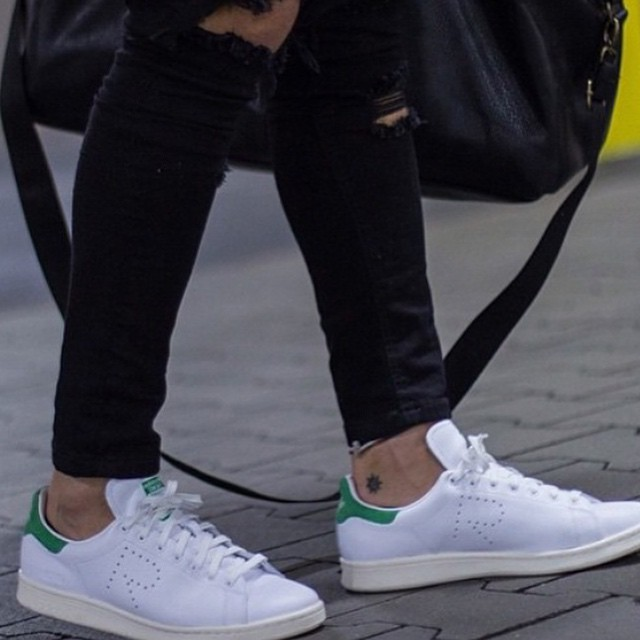sneaker: (1, 445, 349, 640), (311, 413, 640, 611)
